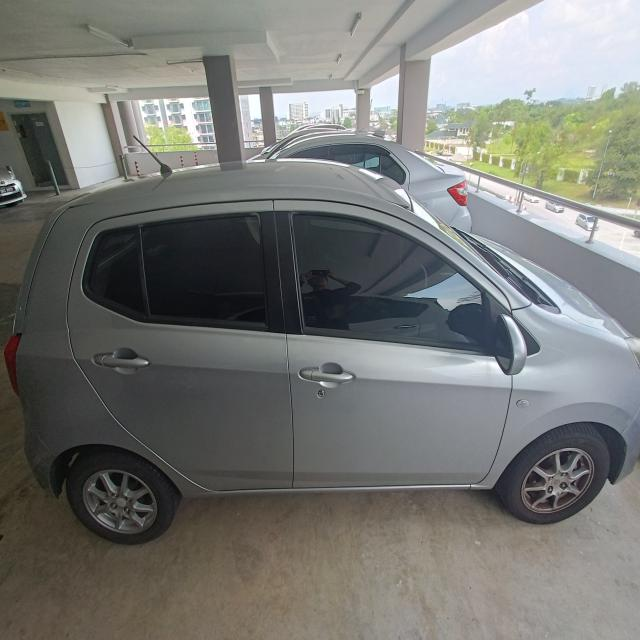PeroduaAxia: (4, 153, 639, 545)
